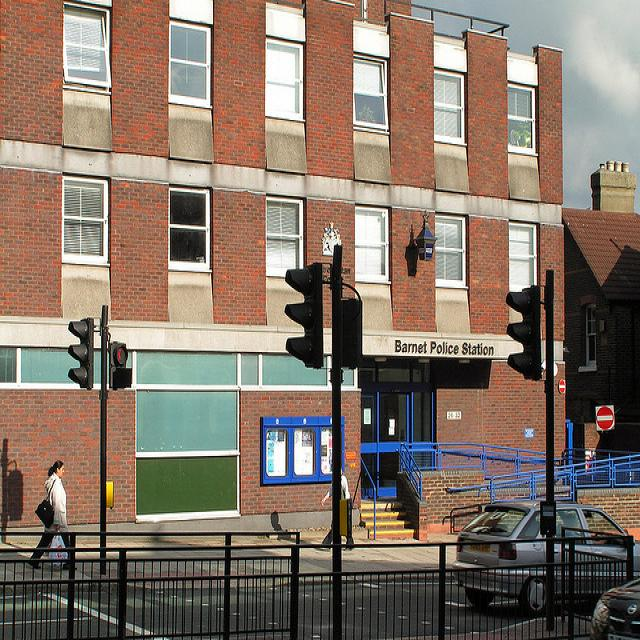Vehicle: (453, 500, 640, 620), (590, 574, 640, 639)
